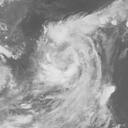cyclone: (34, 17, 110, 112)
